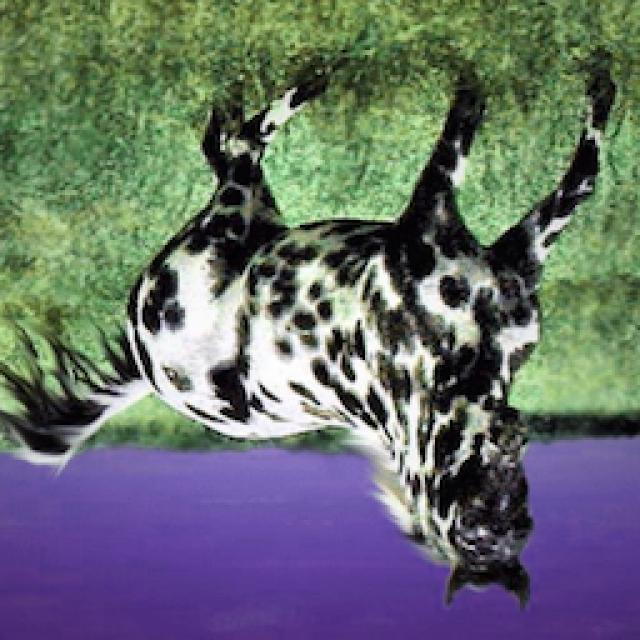Horse: (2, 47, 630, 615)
